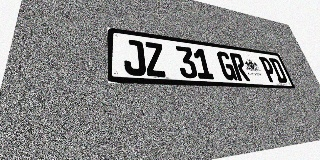1: (192, 48, 214, 79)
3: (175, 46, 198, 79)
D: (268, 58, 288, 83)
G: (216, 51, 238, 80)
J: (123, 39, 147, 76)
P: (258, 56, 279, 82)
R: (229, 53, 250, 81)
Z: (143, 41, 167, 77)
